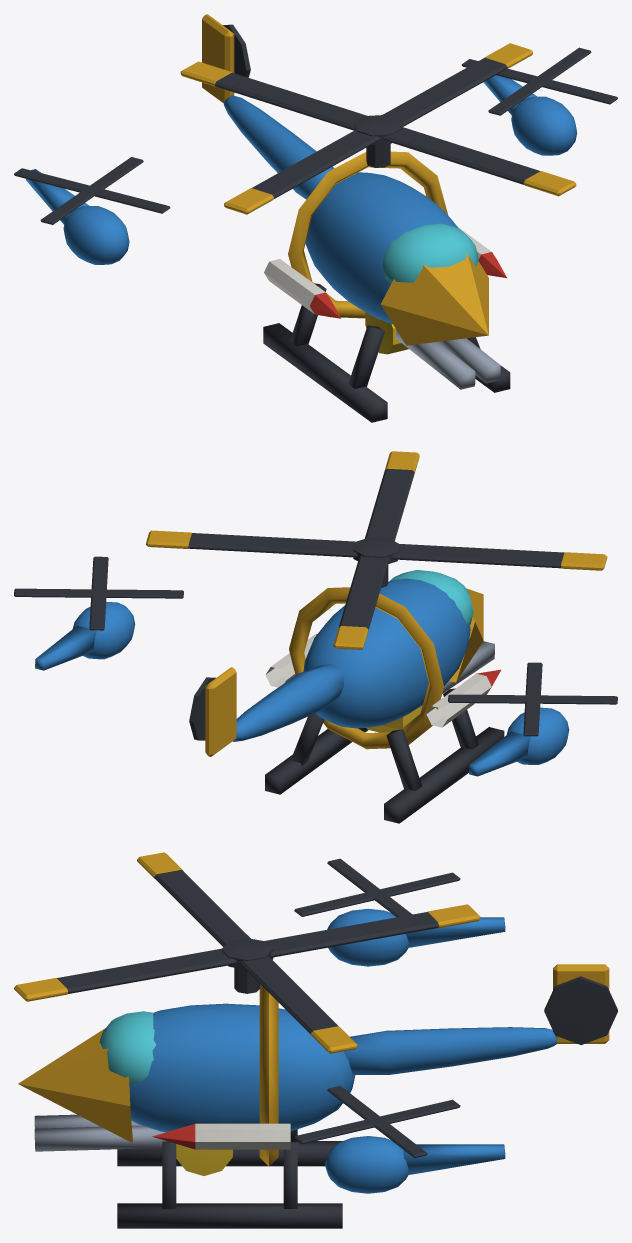
3 renders of one model, top to bottom at view 1: azimuth 30°, elevation 25°; view 2: azimuth 150°, elevation 25°; view 3: azimuth 270°, elevation 25°, orthographic. The views are drawn at different scales.
Visible parts, largest first — view 1: heli_0_base, heli_1_torreta; view 2: heli_0_base, heli_1_torreta; view 3: heli_0_base, heli_1_torreta.
Boxes of the visible parts, <box> form: heli_0_base: <box>14,14,617,422</box>; heli_1_torreta: <box>180,43,576,214</box>; heli_0_base: <box>14,556,617,823</box>; heli_1_torreta: <box>146,451,607,649</box>; heli_0_base: <box>18,858,617,1228</box>; heli_1_torreta: <box>14,852,480,1053</box>.
Bounding box in the file's own units: 1.62 × 0.632 × 1.39.
